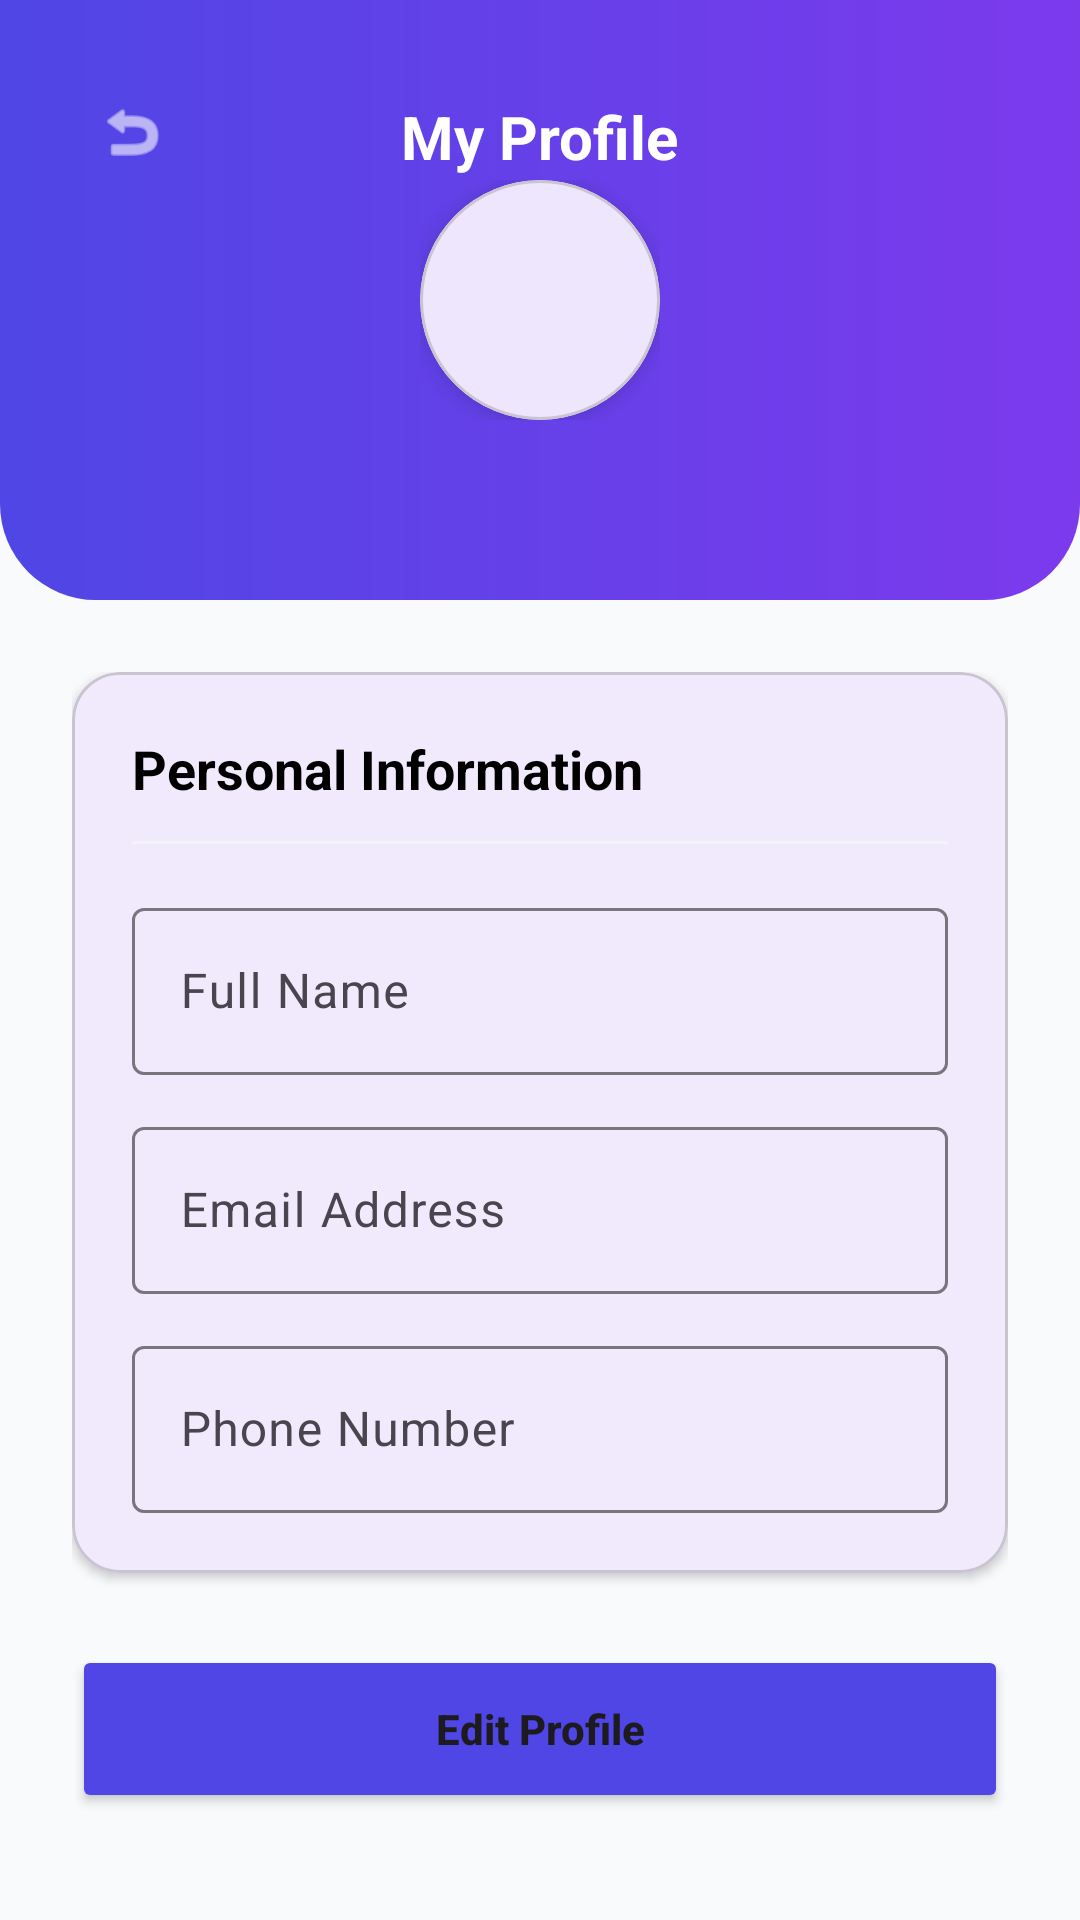

Icons on this 1080*1920 Android screen, each with the point to tap as (x,y):
Cancel: (133,132)
